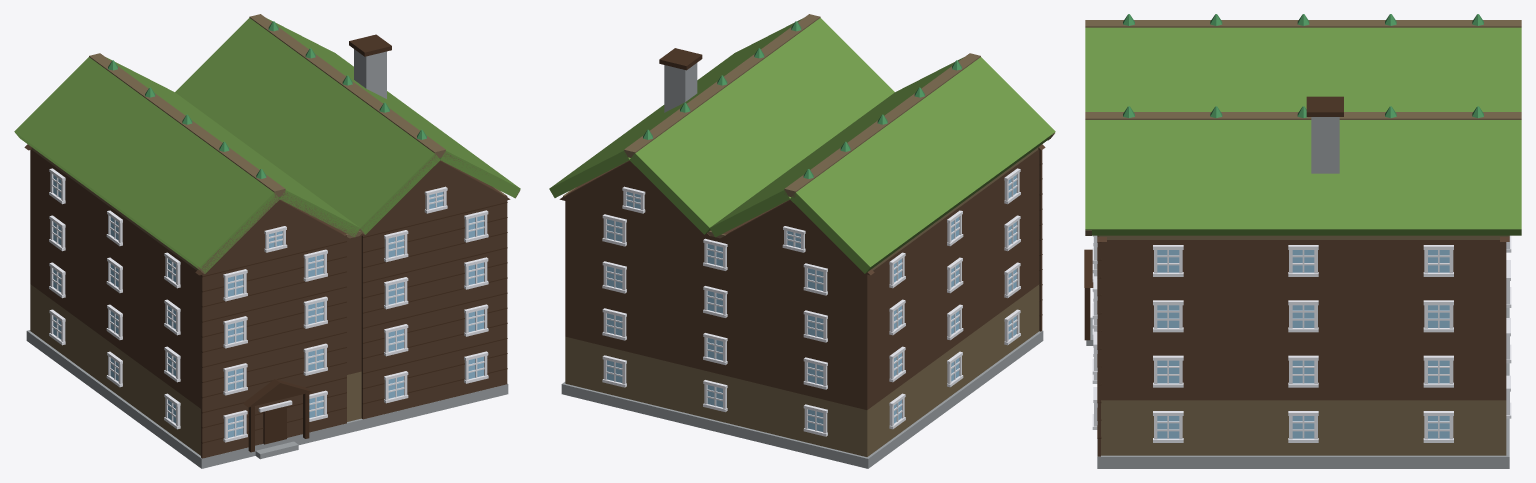
The model's file is house-2x2-4f-turf-a.glb.
3 renders of one model, left to right at view 1: azimuth 30°, elevation 25°; view 2: azimuth 150°, elevation 25°; view 3: azimuth 270°, elevation 25°, orthographic. The views are drawn at different scales.
Parts seen in each view (by area): view 1: house-2x2-4f-turf-a; view 2: house-2x2-4f-turf-a; view 3: house-2x2-4f-turf-a.
Boxes of the visible parts, box(x1,y1,x2,y2) form: house-2x2-4f-turf-a: box(14, 14, 520, 468); house-2x2-4f-turf-a: box(549, 14, 1055, 468); house-2x2-4f-turf-a: box(1084, 14, 1521, 468).
Bounding box in the file's own units: 2 × 1.73 × 2.
Materials: 1 (1 with a texture image).
